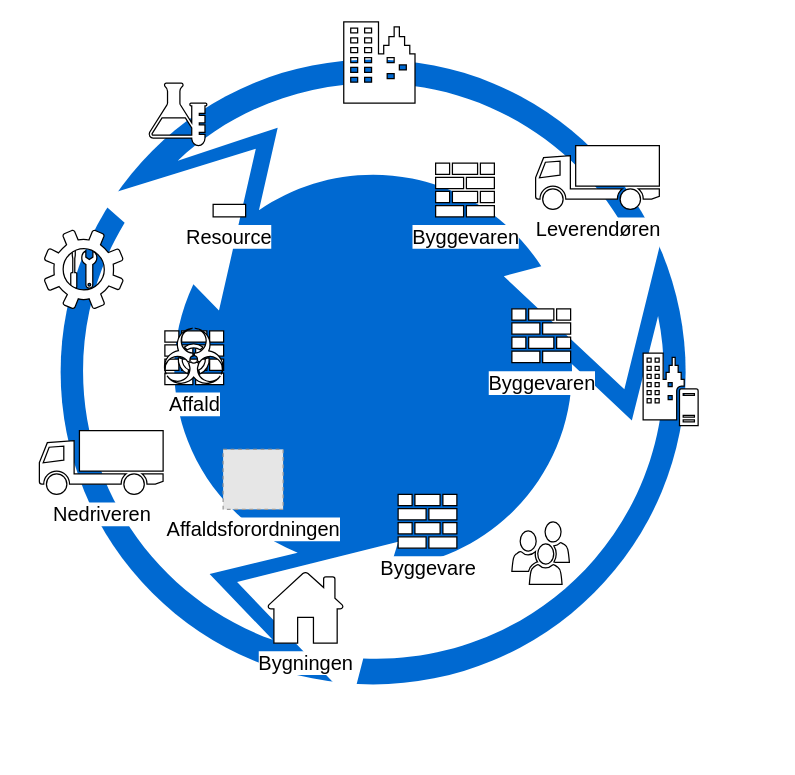
The diagram is 795 pixels wide and 775 high, and some of its shapes have lost their labels. Grey dashed boxes stand in for pictures. Here are the shapes that lost their labels. From the top down, the centre of each, then its label:
At (x=378, y=62): "Byggevareproducenten".
At (x=177, y=114): "Kvalitetskontrol".
At (x=83, y=269): "Forarbejdning".
At (x=670, y=389): "Byggevareforhandleren".
At (x=540, y=552): "Designteamet og Projekteringen".
